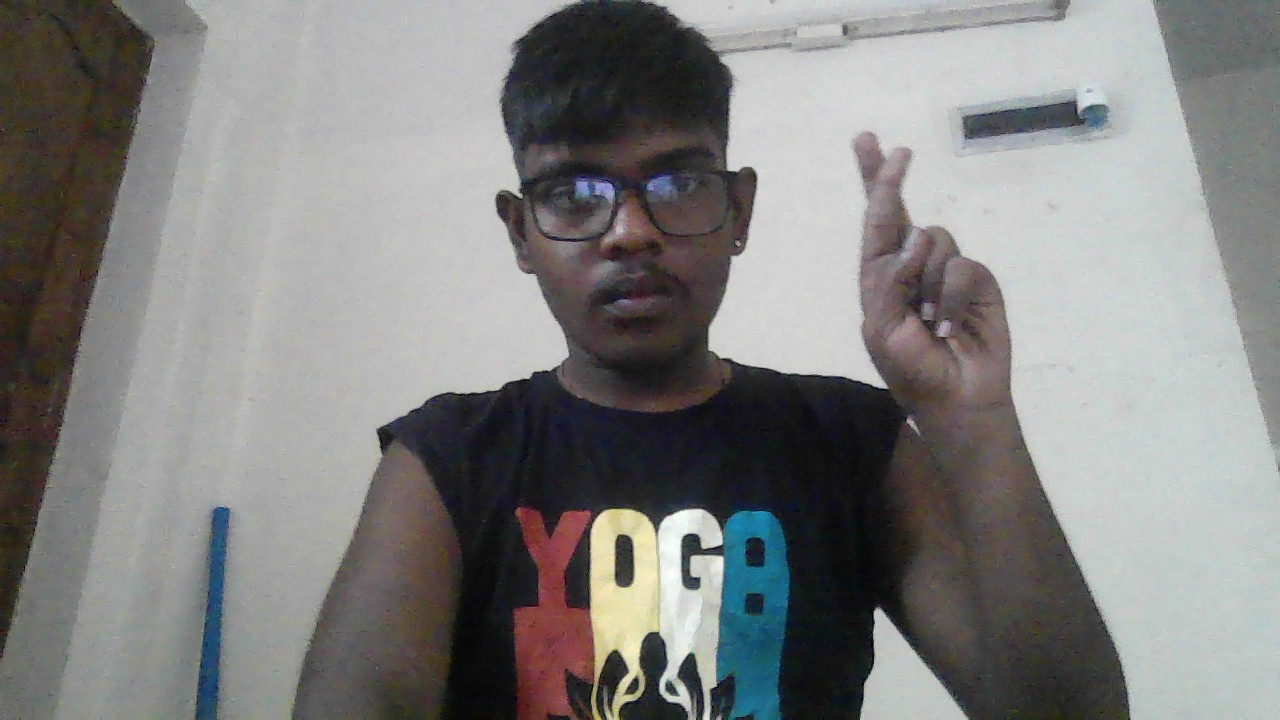R: (852, 131, 1011, 414)
